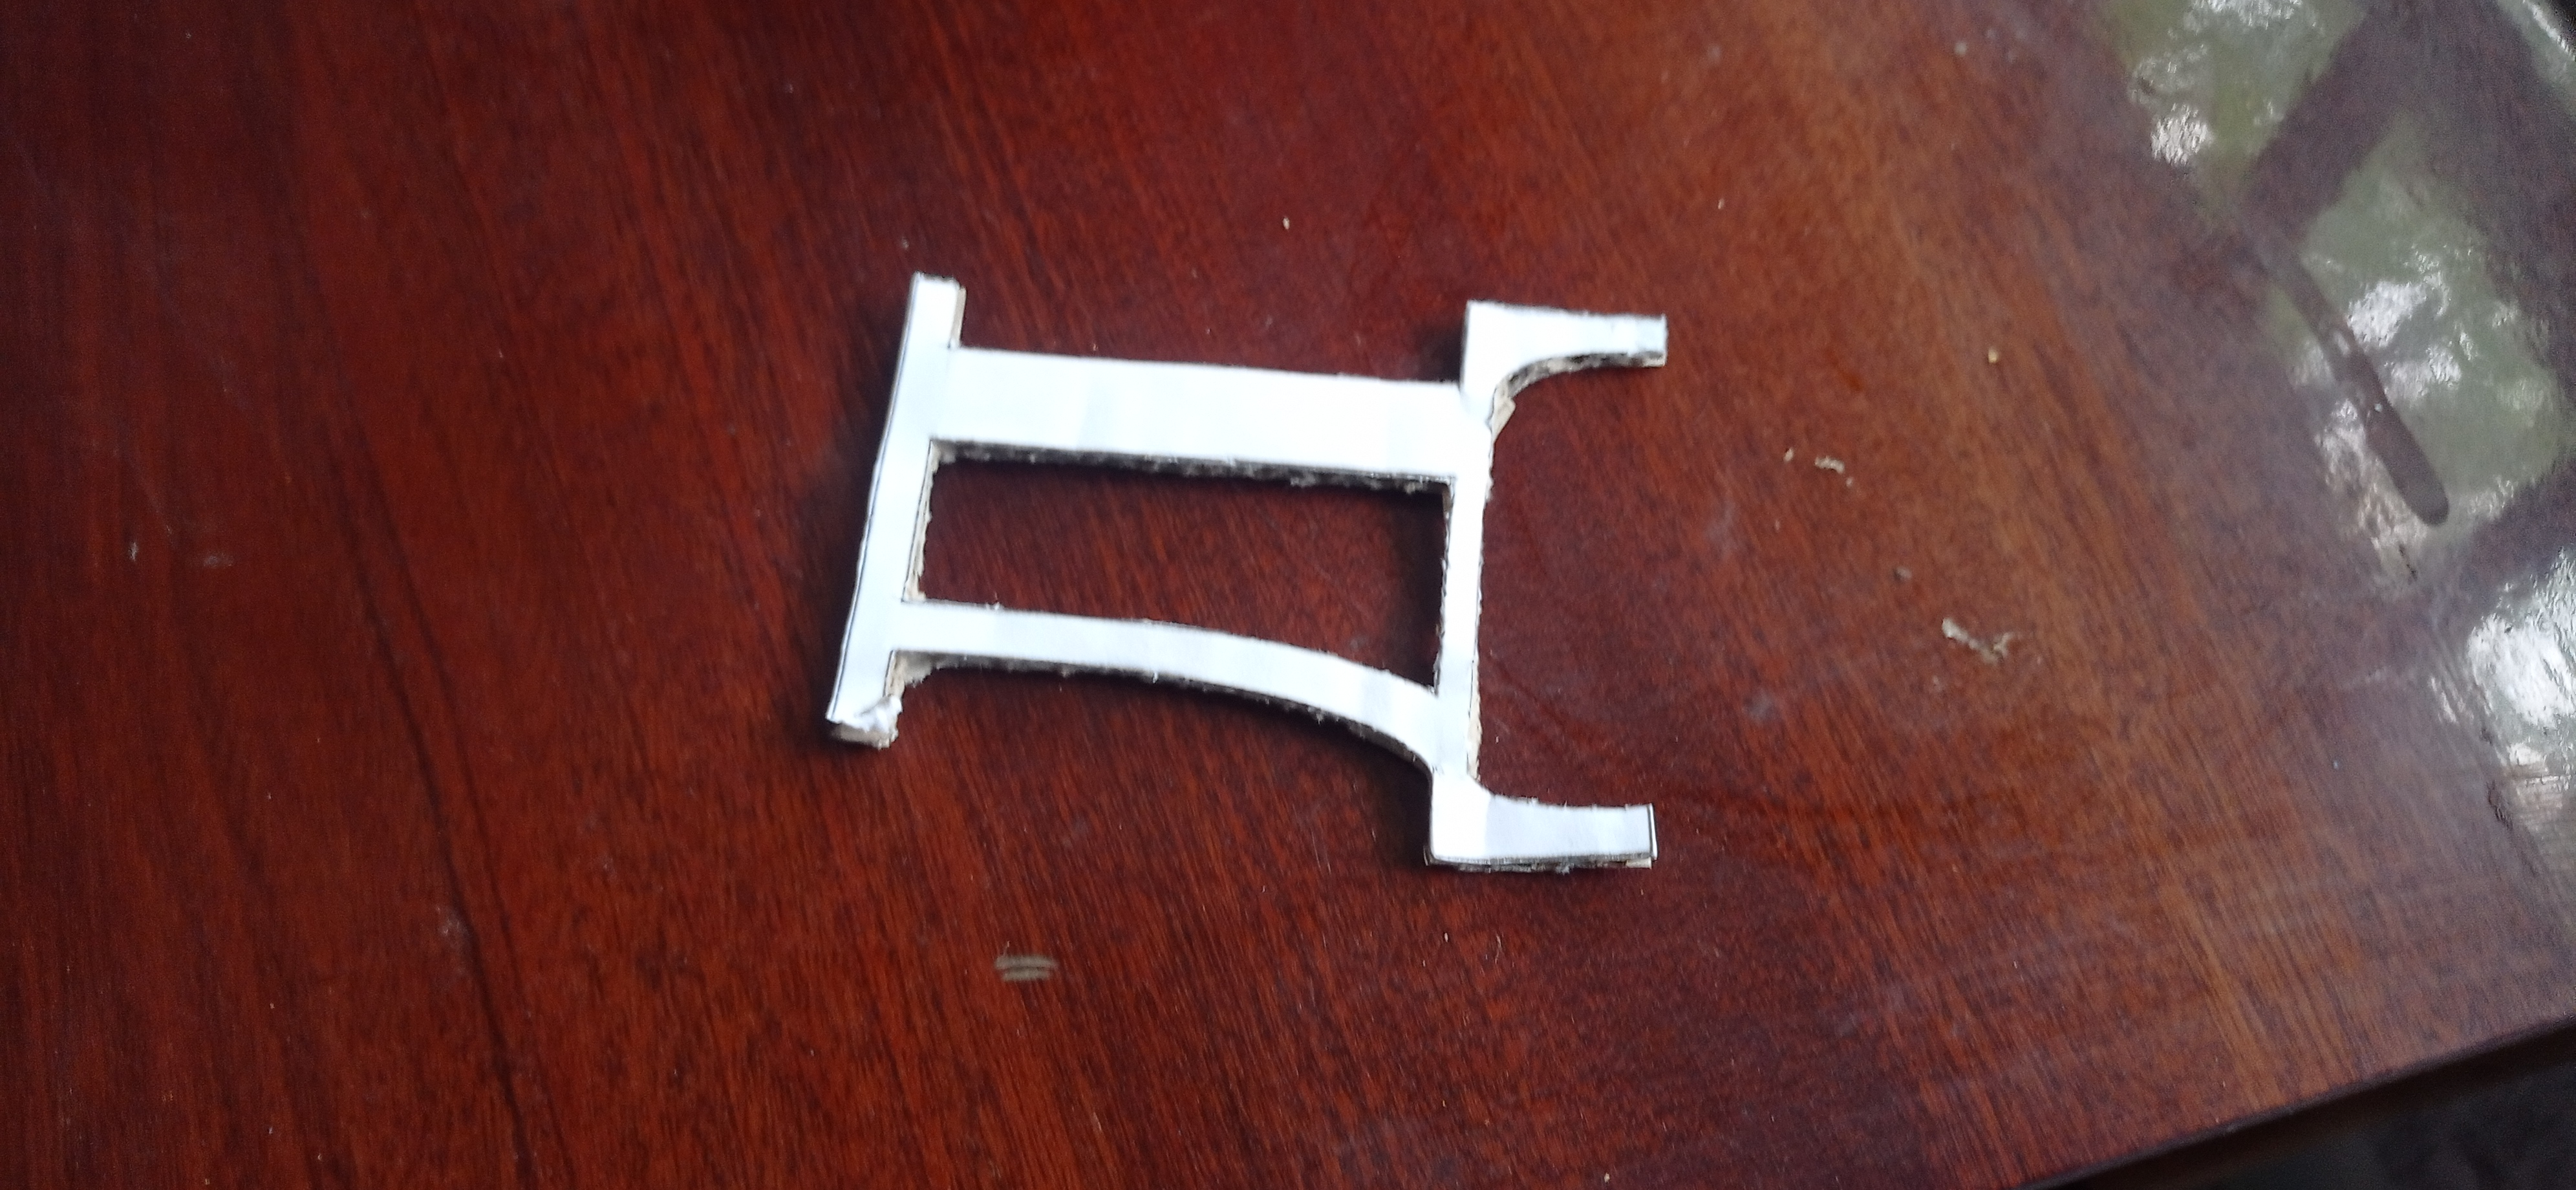d: (820, 273, 1669, 884)
